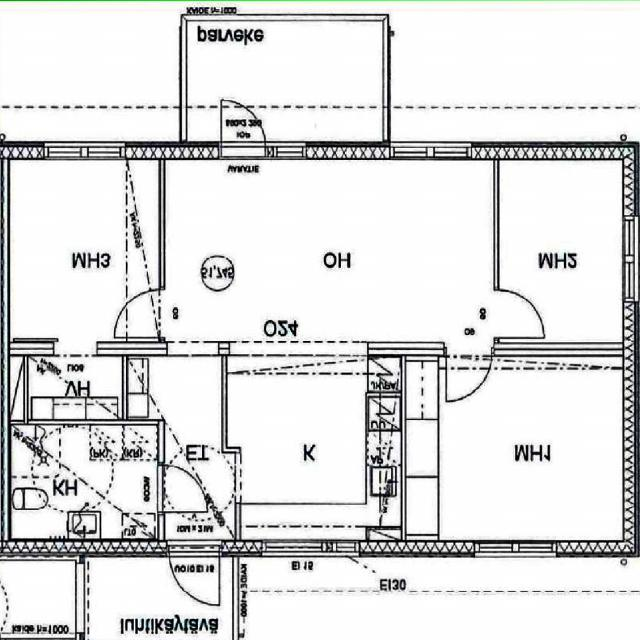door: (170, 540, 220, 609), (446, 342, 492, 404), (222, 96, 265, 160), (494, 290, 545, 338), (115, 289, 165, 337), (158, 466, 209, 512)
